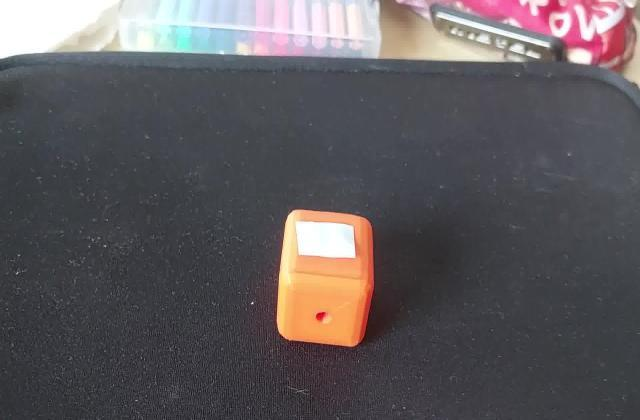sticker: (273, 206, 380, 351)
white: (291, 220, 363, 267)
